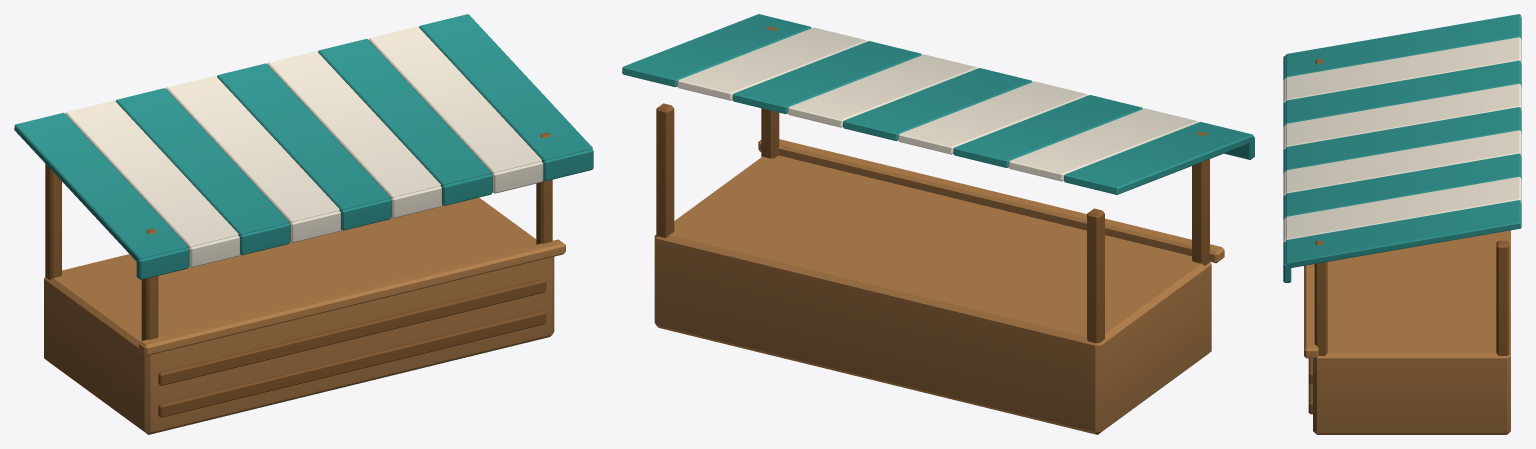
The model's file is stall.b5ecd578c430.glb.
The picture shows the model from 3 angles, left to right: view 1: azimuth 30°, elevation 25°; view 2: azimuth 150°, elevation 25°; view 3: azimuth 270°, elevation 25°; orthographic projection. The views are drawn at different scales.
Visible parts, largest first — view 1: stall_wood, stall_red, stall_cream, stall_dark; view 2: stall_wood, stall_red, stall_cream, stall_dark; view 3: stall_wood, stall_red, stall_cream, stall_dark.
Part boxes in pixels (box(x1,y1,x2,y2)): stall_wood: box(44, 197, 565, 434); stall_red: box(14, 14, 593, 279); stall_cream: box(65, 26, 543, 267); stall_dark: box(45, 132, 552, 434); stall_wood: box(654, 139, 1224, 434); stall_red: box(622, 14, 1254, 194); stall_cream: box(677, 27, 1198, 181); stall_dark: box(656, 26, 1209, 433); stall_wood: box(1304, 230, 1510, 434); stall_red: box(1283, 14, 1521, 282); stall_cream: box(1283, 37, 1521, 242); stall_dark: box(1308, 59, 1509, 414).
Size of the model in its own units: 5.99 by 3 by 2.89.
